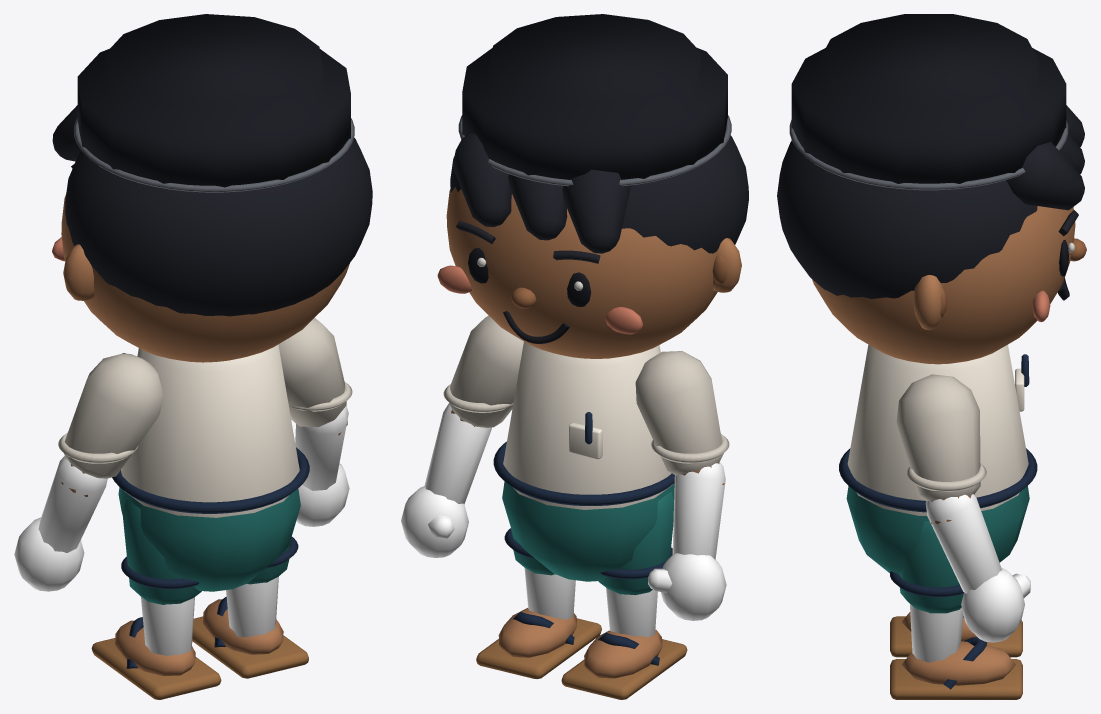
Rendered from Warga_tetangga.fbx.
3 views of the same model, side by side, from view 1: azimuth 30°, elevation 25°; view 2: azimuth 150°, elevation 25°; view 3: azimuth 270°, elevation 25° (orthographic). The views are drawn at different scales.
Visible parts, largest first — view 1: Bip01 Head, Bip01 Spine, Bip01, Bip01 L UpperArm, Bip01 R UpperArm, Bip01 L Foot, Bip01 R Foot, Bip01 L Forearm, Bip01 L Thigh, Bip01 L Hand, Bip01 R Forearm, Bip01 L Calf (+3 smaller); view 2: Bip01 Head, Bip01 Spine, Bip01, Bip01 L UpperArm, Bip01 R UpperArm, Bip01 L Foot, Bip01 R Foot, Bip01 L Forearm, Bip01 L Hand, Bip01 R Forearm, Bip01 R Hand, Bip01 L Thigh (+3 smaller); view 3: Bip01 Head, Bip01 Spine, Bip01 R UpperArm, Bip01, Bip01 R Foot, Bip01 R Forearm, Bip01 R Thigh, Bip01 R Hand, Bip01 R Calf, Bip01 L Foot.
Part boxes in pixels (bbox=[...]): Bip01 Head: bbox=[52, 14, 372, 362]; Bip01 Spine: bbox=[121, 345, 299, 517]; Bip01: bbox=[112, 447, 309, 591]; Bip01 L UpperArm: bbox=[58, 353, 163, 496]; Bip01 R UpperArm: bbox=[278, 317, 352, 435]; Bip01 L Foot: bbox=[91, 617, 221, 699]; Bip01 R Foot: bbox=[192, 596, 308, 678]; Bip01 L Forearm: bbox=[38, 456, 107, 552]; Bip01 L Thigh: bbox=[121, 499, 201, 604]; Bip01 L Hand: bbox=[14, 517, 84, 591]; Bip01 R Forearm: bbox=[295, 405, 348, 490]; Bip01 L Calf: bbox=[141, 597, 194, 655]; Bip01 Head: bbox=[437, 14, 748, 358]; Bip01 Spine: bbox=[503, 341, 673, 509]; Bip01: bbox=[493, 441, 674, 581]; Bip01 L UpperArm: bbox=[635, 351, 729, 484]; Bip01 R UpperArm: bbox=[443, 315, 523, 428]; Bip01 L Foot: bbox=[561, 629, 687, 699]; Bip01 R Foot: bbox=[476, 608, 601, 678]; Bip01 L Forearm: bbox=[672, 462, 725, 559]; Bip01 L Hand: bbox=[648, 553, 726, 620]; Bip01 R Forearm: bbox=[424, 403, 491, 504]; Bip01 R Hand: bbox=[401, 486, 468, 557]; Bip01 L Thigh: bbox=[598, 492, 673, 595]; Bip01 Head: bbox=[777, 14, 1086, 364]; Bip01 Spine: bbox=[847, 344, 1029, 515]; Bip01 R UpperArm: bbox=[896, 374, 986, 524]; Bip01: bbox=[839, 448, 1037, 574]; Bip01 R Foot: bbox=[890, 637, 1022, 699]; Bip01 R Forearm: bbox=[925, 494, 1001, 593]; Bip01 R Thigh: bbox=[890, 521, 963, 613]; Bip01 R Hand: bbox=[961, 567, 1030, 642]; Bip01 R Calf: bbox=[910, 604, 963, 662]; Bip01 L Foot: bbox=[890, 612, 1022, 657].
Bounding box in the file's own units: 0.82 × 1.46 × 0.677.
